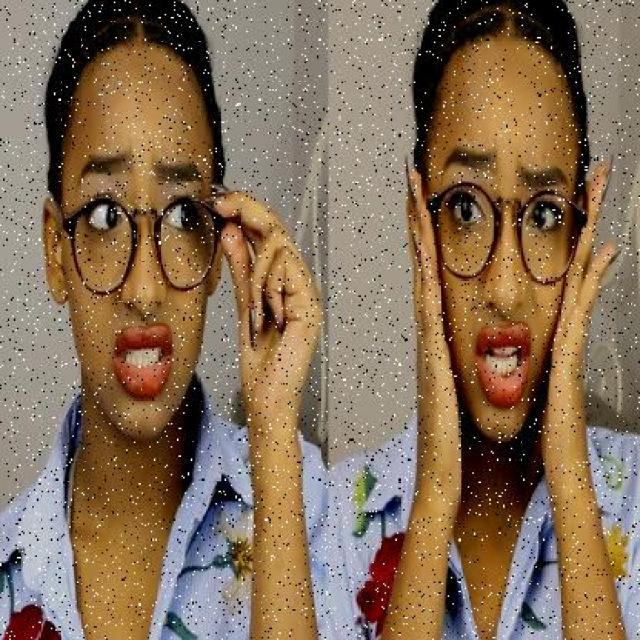glasses: (53, 188, 232, 302), (419, 178, 590, 297)
